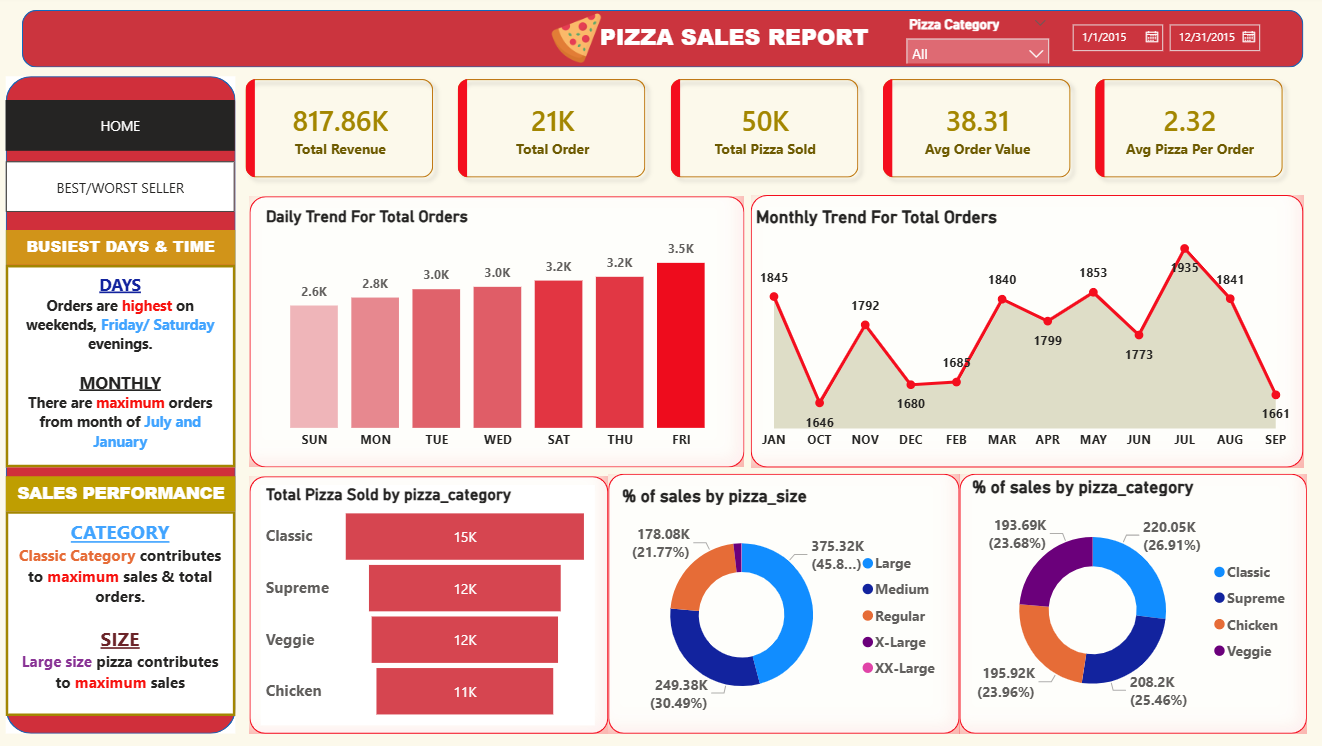

Layout of this report page (visuals, bound fields, positions):
{"tool":"powerbi","page":{"name":"HOME","canvas":[1280,720],"ordinal":0},"visuals":[{"type":"shape","box":[8.4,73.6,222,634.6],"z":0},{"type":"cardVisual","fields":{"Data":["pizza_sales.Total Revenue","pizza_sales.Total Order","pizza_sales.Total Pizza Sold","pizza_sales.Average Order Value","pizza_sales.Avg Pizza Per Order"]},"box":[203.9,55.5,1076.1,132.7],"z":1000},{"type":"shape","box":[24.1,9.7,1236.6,55.5],"z":2000},{"type":"textbox","box":[576.7,15.7,281.1,39.8],"z":3000},{"type":"image","box":[520,12.1,78.4,49.5],"z":4000},{"type":"shape","box":[243.7,189.4,477.8,261.8],"z":5000},{"type":"columnChart","title":"Daily Trend For Total Orders","fields":{"Category":["pizza_sales.order day"],"Y":["pizza_sales.Total Order"]},"box":[254.6,200.3,458.4,242.5],"z":6000},{"type":"shape","box":[727.5,188.2,533.2,263],"z":7000},{"type":"areaChart","title":"Monthly Trend For Total Orders","fields":{"Category":["pizza_sales.order month"],"Y":["pizza_sales.Total Order"]},"box":[727.5,199.1,529.6,243.7],"z":8000},{"type":"shape","box":[589.9,457.2,339,250.9],"z":9000},{"type":"shape","box":[243.7,459.7,346.2,248.5],"z":10000},{"type":"shape","box":[929,457.2,335.4,250.9],"z":11000},{"type":"funnel","fields":{"Category":["pizza_sales.pizza_category"],"Y":["pizza_sales.Total Pizza Sold"]},"box":[254.6,468.1,322.1,231.6],"z":12000},{"type":"donutChart","title":"% of sales by pizza_size","fields":{"Y":["pizza_sales.Total Revenue"],"Category":["pizza_sales.pizza_size"]},"box":[598.4,468.1,320.9,231.6],"z":13000},{"type":"donutChart","title":"% of sales by pizza_category","fields":{"Y":["pizza_sales.Total Revenue"],"Category":["pizza_sales.pizza_category"]},"box":[936.2,459.7,320.9,240.1],"z":14000},{"type":"textbox","box":[8.4,222,222,33.8],"z":15000},{"type":"textbox","box":[8.4,255.8,222,195.4],"z":16000},{"type":"textbox","box":[8.4,493.4,222,197.9],"z":17000},{"type":"textbox","box":[8.4,459.7,222,33.8],"z":18000},{"type":"slicer","fields":{"Values":["pizza_sales.pizza_category"]},"box":[867.4,10.9,158,50.7],"z":19000},{"type":"slicer","fields":{"Values":["pizza_sales.order_date"]},"box":[1025.5,13.3,231.6,48.3],"z":20000},{"type":"pageNavigator","box":[8.4,96.5,222,49.5],"z":21000},{"type":"pageNavigator","box":[8.4,155.6,222,49.5],"z":22000}]}

Visuals, with their boxes in screenshot pixels (x1, y1, x2, y2), scaled from the page's 1280x720 canvas onto the 1322x746 screenshot:
shape: (x1=9, y1=76, x2=238, y2=734)
cardVisual - pizza_sales.Total Revenue x pizza_sales.Total Order: (x1=211, y1=58, x2=1321, y2=195)
shape: (x1=25, y1=10, x2=1302, y2=68)
textbox: (x1=596, y1=16, x2=886, y2=58)
image: (x1=537, y1=13, x2=618, y2=64)
shape: (x1=252, y1=196, x2=745, y2=467)
"Daily Trend For Total Orders" columnChart: (x1=263, y1=208, x2=736, y2=459)
shape: (x1=751, y1=195, x2=1302, y2=467)
"Monthly Trend For Total Orders" areaChart: (x1=751, y1=206, x2=1298, y2=459)
shape: (x1=609, y1=474, x2=959, y2=734)
shape: (x1=252, y1=476, x2=609, y2=734)
shape: (x1=959, y1=474, x2=1306, y2=734)
funnel - pizza_sales.pizza_category x pizza_sales.Total Pizza Sold: (x1=263, y1=485, x2=596, y2=725)
"% of sales by pizza_size" donutChart: (x1=618, y1=485, x2=949, y2=725)
"% of sales by pizza_category" donutChart: (x1=967, y1=476, x2=1298, y2=725)
textbox: (x1=9, y1=230, x2=238, y2=265)
textbox: (x1=9, y1=265, x2=238, y2=467)
textbox: (x1=9, y1=511, x2=238, y2=716)
textbox: (x1=9, y1=476, x2=238, y2=511)
slicer - pizza_sales.pizza_category: (x1=896, y1=11, x2=1059, y2=64)
slicer - pizza_sales.order_date: (x1=1059, y1=14, x2=1298, y2=64)
pageNavigator: (x1=9, y1=100, x2=238, y2=151)
pageNavigator: (x1=9, y1=161, x2=238, y2=213)
